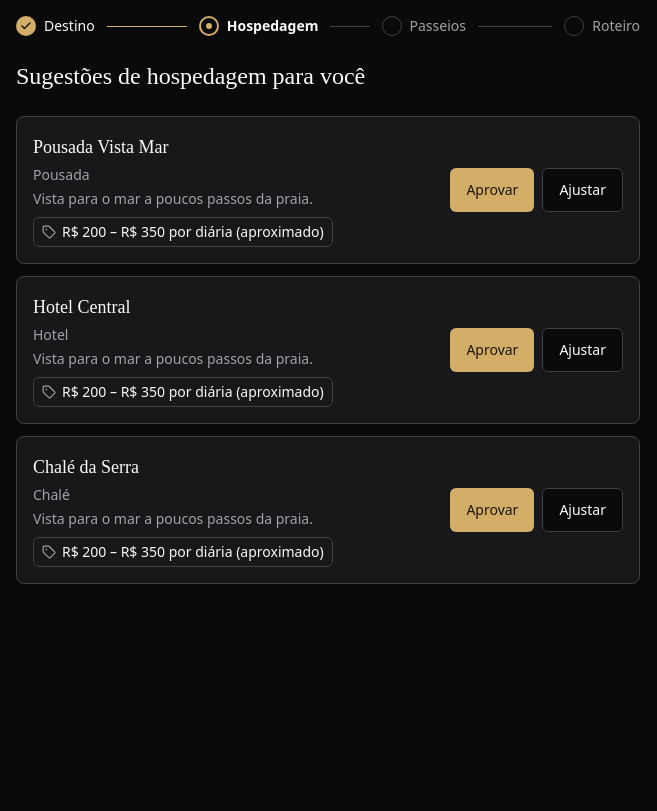
Test case: HospedagemSugestoesScreen — estado Sucesso › 'Cancelar' no campo de feedback fecha sem regenerar
The image size is (657, 811).
Expected: the text "Pousada Vista Mar" is shown, [33,137,169,157]
What coordinates should you click on to do the following:
click the 1st button "Ajustar"
I would click on:
 (583, 190)
Its box is [542,168,623,212].
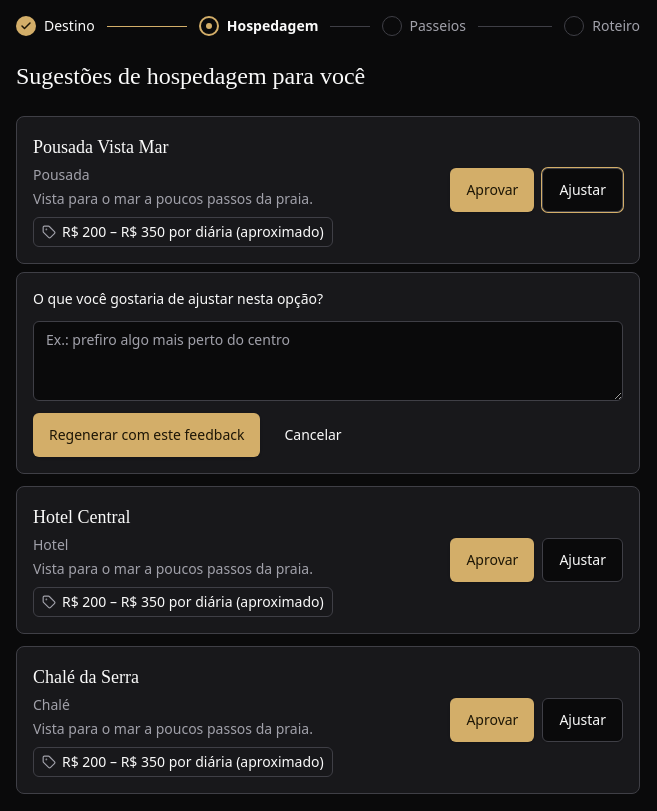
What coordinates should you click on to do the following:
click the button "Cancelar"
I would click on:
 (313, 435)
Its box is [268,413,358,457].
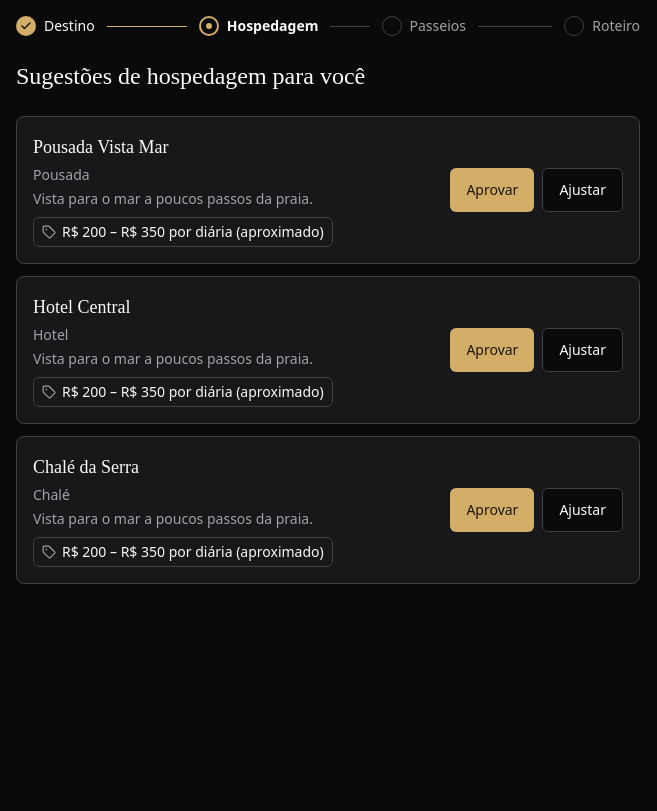
Result: the label labelled "O que você gostaria de ajustar nesta opção?" is gone
